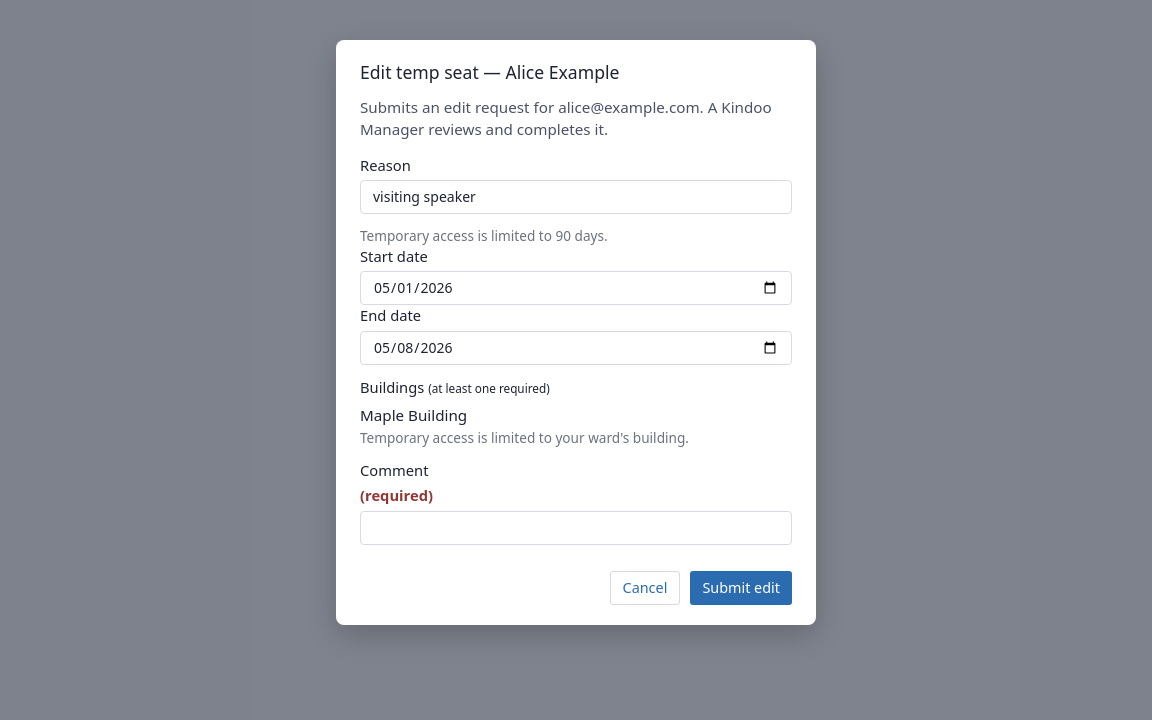
Scenario: <EditSeatDialog /> — limited temp window reports live (D25) › shows the cap message as soon as the end date stretches past 90 days, with no submit
The image size is (1152, 720).
Type "2026-07-31" into the date field with test id "edit-seat-end-date" at (576, 348), box [360, 331, 792, 365]
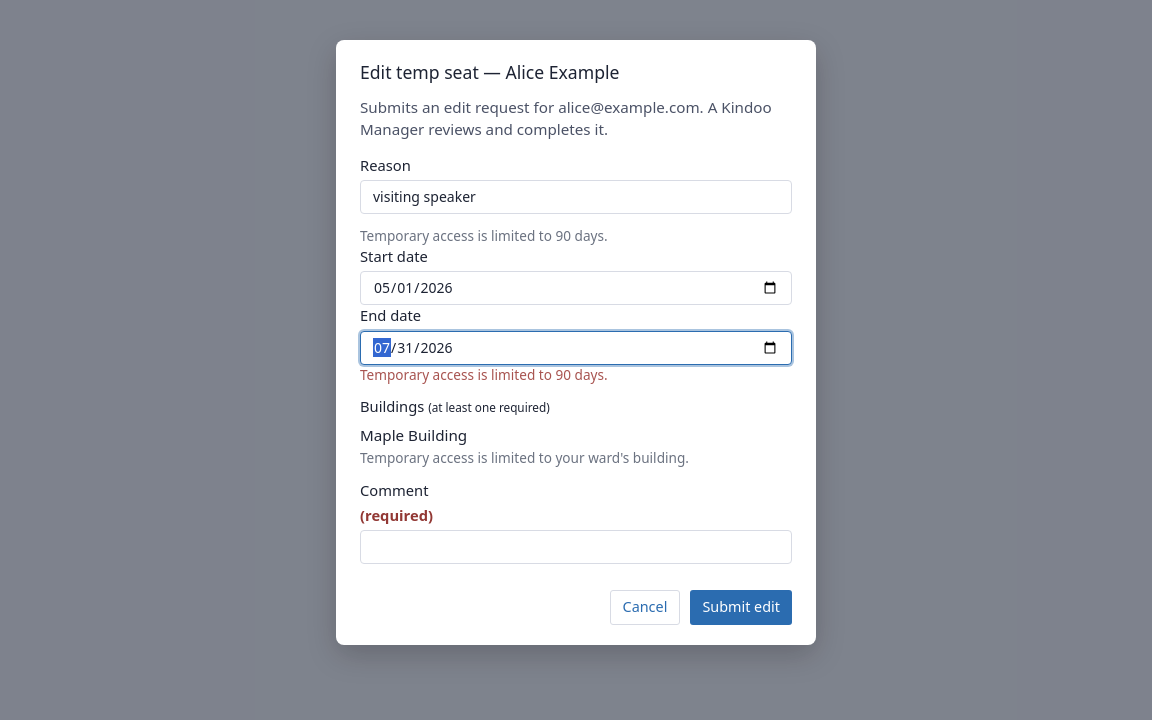
expect the message "Temporary access is limited to 90 days." is shown: met, box [360, 365, 608, 384]
